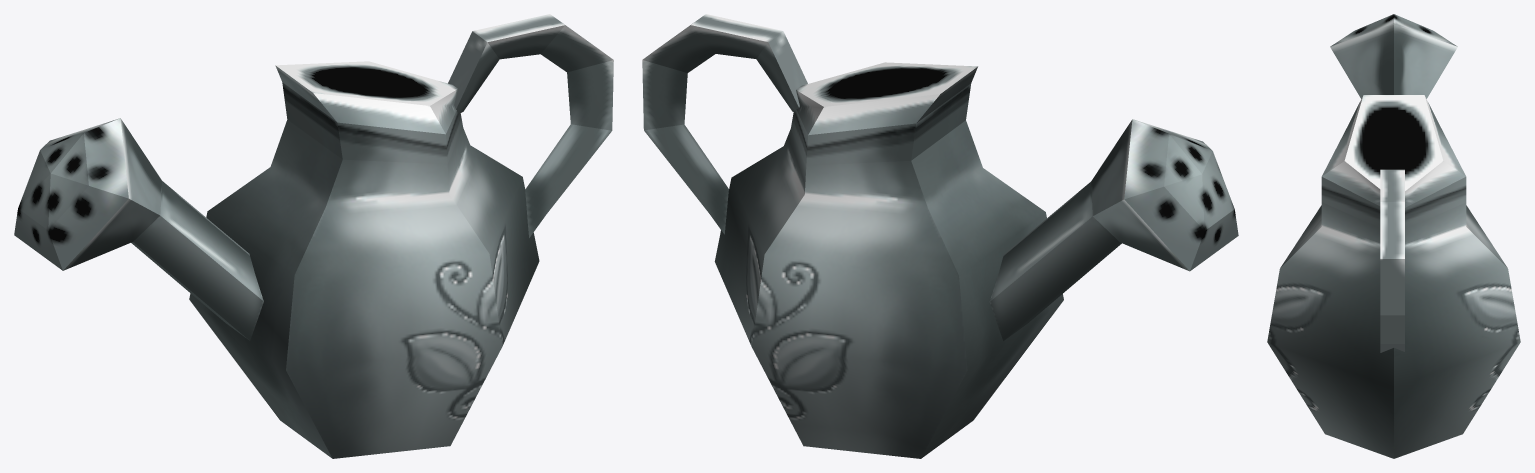
Rendered from watering_can.fbx.
3 views of the same model, side by side, from view 1: azimuth 30°, elevation 25°; view 2: azimuth 150°, elevation 25°; view 3: azimuth 270°, elevation 25° (orthographic). The views are drawn at different scales.
Visible parts, largest first — view 1: water_canC; view 2: water_canC; view 3: water_canC.
Boxes of the visible parts, <box> form: water_canC: <box>14,14,613,458</box>; water_canC: <box>642,14,1238,458</box>; water_canC: <box>1267,14,1520,458</box>.
Size of the model in its own units: 364 by 223 by 172.
